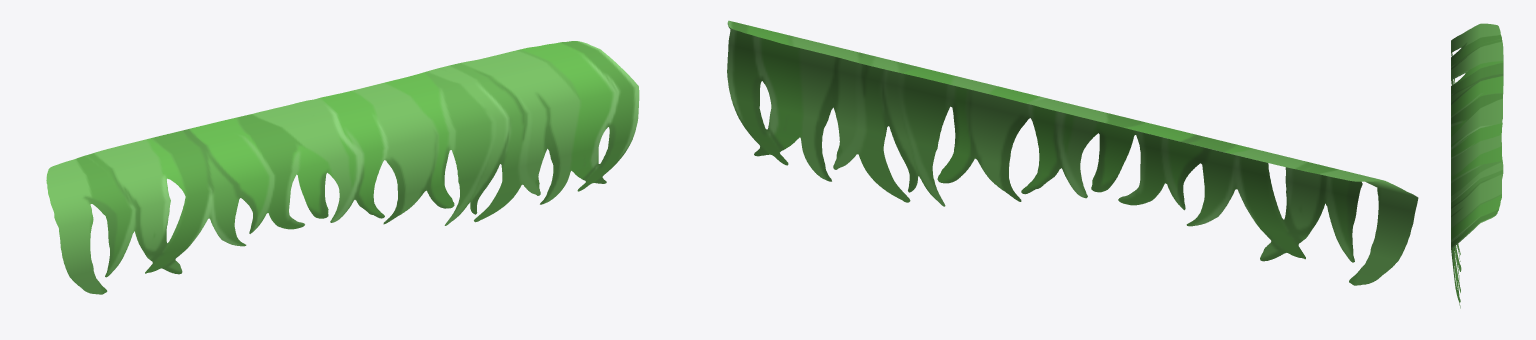
Rendered from BordePlant2.fbx.
3 views of the same model, side by side, from view 1: azimuth 30°, elevation 25°; view 2: azimuth 150°, elevation 25°; view 3: azimuth 270°, elevation 25° (orthographic). The views are drawn at different scales.
Visible parts, largest first — view 1: BordePlant2; view 2: BordePlant2; view 3: BordePlant2.
Boxes of the visible parts, x1,y1,x2,y2 form: BordePlant2: (46, 41, 639, 294); BordePlant2: (727, 20, 1418, 285); BordePlant2: (1451, 23, 1503, 308).
Bounding box in the file's own units: 1045 × 240 × 147.
1 material, 1 textured.
